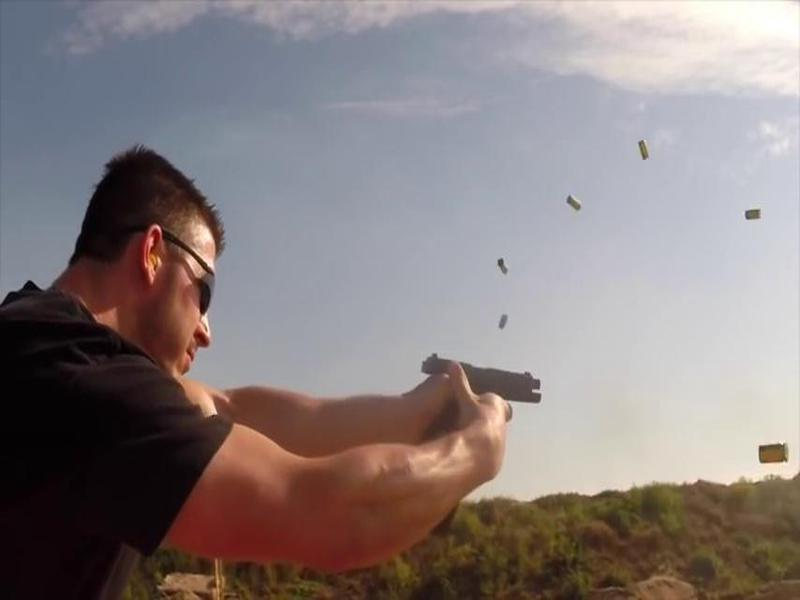Pistola: (398, 353, 570, 451)
